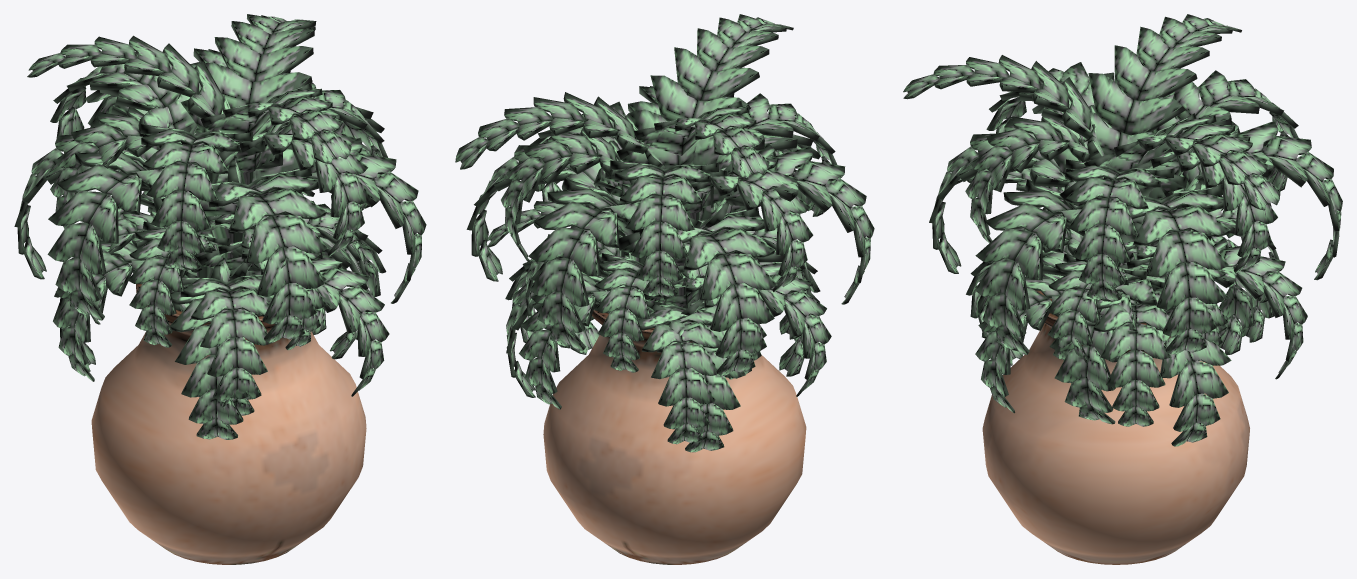
File: ferns_and_vases.fbx
3 renders of one model, left to right at view 1: azimuth 30°, elevation 25°; view 2: azimuth 150°, elevation 25°; view 3: azimuth 270°, elevation 25°, orthographic. The views are drawn at different scales.
Visible parts, largest first — view 1: Fern big, Vase, Fern medium, Fern small; view 2: Fern big, Vase, Fern medium, Fern small; view 3: Fern big, Vase, Fern medium, Fern small.
Boxes of the visible parts, box(x1,y1,x2,y2) form: Fern big: box(14, 14, 426, 415); Vase: box(91, 284, 366, 564); Fern medium: box(53, 164, 382, 409); Fern small: box(53, 200, 369, 439); Fern big: box(455, 14, 874, 438); Vase: box(543, 310, 806, 564); Fern medium: box(487, 150, 831, 444); Fern small: box(506, 262, 820, 452); Fern big: box(903, 14, 1342, 426); Vase: box(982, 290, 1249, 564); Fern medium: box(969, 167, 1307, 426); Fern small: box(975, 231, 1261, 446).
Bounding box in the file's own units: 586 × 731 × 625.
